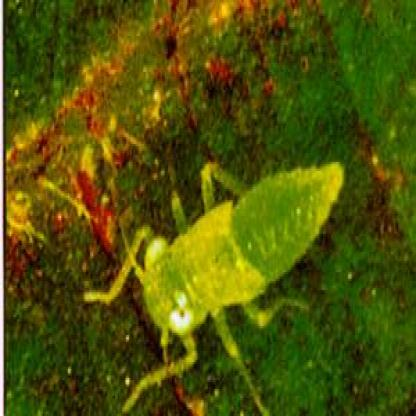Green-Leafhopper: (89, 162, 347, 416)
